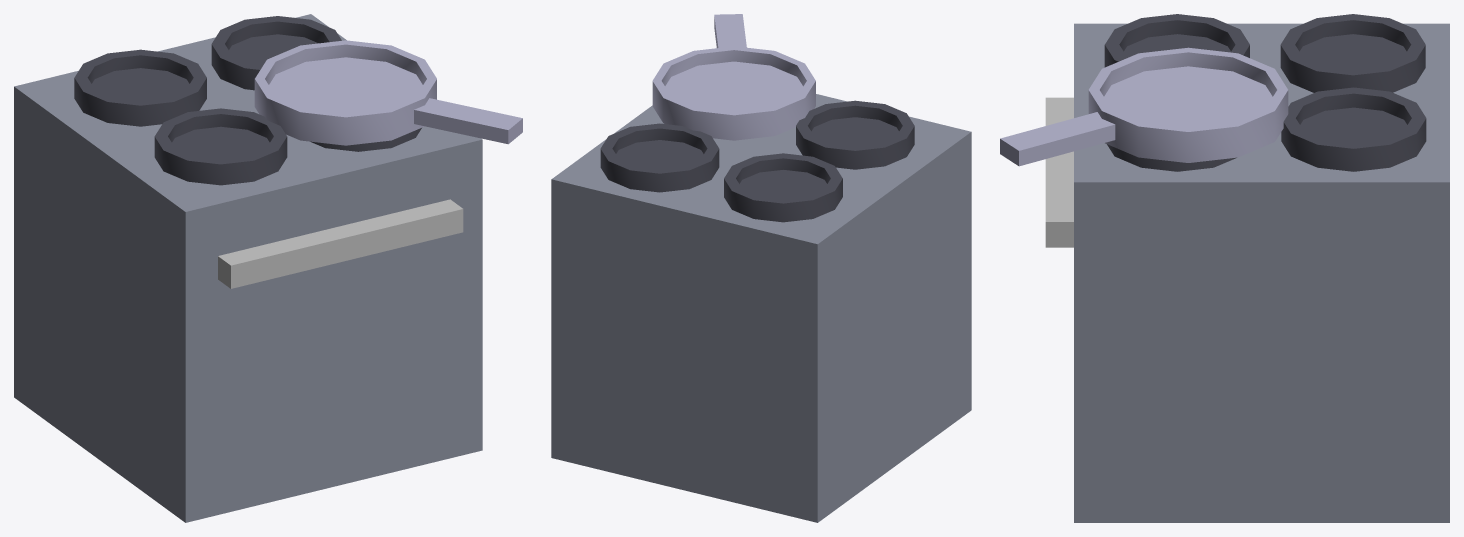
The model's file is stove.gltf.
The picture shows the model from 3 angles, left to right: view 1: azimuth 30°, elevation 25°; view 2: azimuth 150°, elevation 25°; view 3: azimuth 270°, elevation 25°; orthographic projection. The views are drawn at different scales.
Parts seen in each view (by area): view 1: Stove, Pan2, MeshInstance3D2, Plate23, Plate2.001, Plate42, MeshInstance3D, Plate32; view 2: Stove, Pan2, Plate2.001, Plate42, Plate23, MeshInstance3D; view 3: Stove, Pan2, Plate42, Plate2.001, Plate23, MeshInstance3D, MeshInstance3D2, Plate32.
Part boxes in pixels (<box>): Stove: <box>14,14,482,522</box>; Pan2: <box>254,40,436,145</box>; MeshInstance3D2: <box>218,199,463,288</box>; Plate23: <box>154,108,287,185</box>; Plate2.001: <box>74,49,206,126</box>; Plate42: <box>211,16,341,90</box>; MeshInstance3D: <box>414,98,522,144</box>; Plate32: <box>310,128,421,151</box>; Stove: <box>551,94,971,522</box>; Pan2: <box>652,46,815,140</box>; Plate2.001: <box>724,153,842,222</box>; Plate42: <box>600,123,719,192</box>; Plate23: <box>796,100,914,169</box>; MeshInstance3D: <box>714,14,746,48</box>; Stove: <box>1074,23,1449,522</box>; Pan2: <box>1088,47,1288,162</box>; Plate42: <box>1281,87,1426,171</box>; Plate2.001: <box>1280,14,1425,92</box>; Plate23: <box>1104,14,1249,67</box>; MeshInstance3D: <box>1000,112,1115,166</box>; MeshInstance3D2: <box>1045,97,1073,247</box>; Plate32: <box>1107,144,1236,171</box>.
Size of the model in its own units: 1.05 by 1.14 by 1.2.
